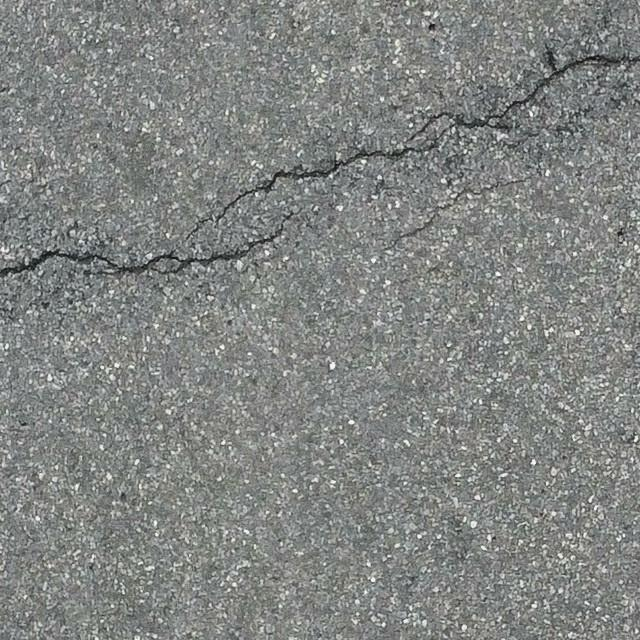TransverseCrack: (1, 48, 640, 277), (381, 174, 532, 255)
